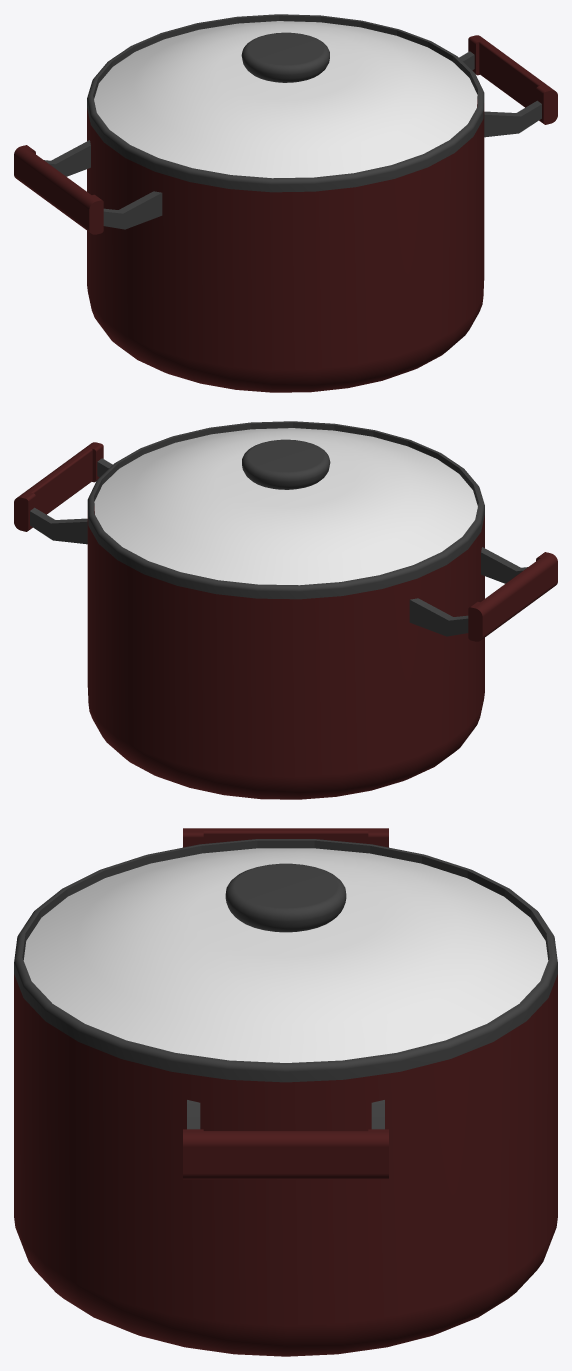
3 views of the same model, one above another, from view 1: azimuth 30°, elevation 25°; view 2: azimuth 150°, elevation 25°; view 3: azimuth 270°, elevation 25° (orthographic). The views are drawn at different scales.
Parts seen in each view (by area): view 1: pCylinder1, pCylinder2, pCube3, pCylinder9; view 2: pCylinder1, pCylinder2, pCube3, pCylinder9; view 3: pCylinder1, pCylinder2, pCube3, pCylinder9.
Part boxes in pixels (x1,y1,x2,y2): pCylinder1: (87,14,484,392); pCylinder2: (94,21,477,178); pCube3: (14,35,557,234); pCylinder9: (241,32,329,82); pCylinder1: (87,421,484,799); pCylinder2: (94,428,477,585); pCube3: (14,442,557,641); pCylinder9: (242,439,330,489); pCylinder1: (14,839,557,1356); pCylinder2: (23,848,548,1062); pCube3: (183,828,388,1179); pCylinder9: (225,863,346,932).
Bounding box in the file's own units: 2.72 × 1.51 × 2.
